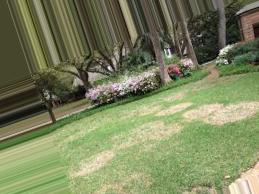patch: (183, 102, 251, 123), (135, 123, 175, 140), (103, 141, 138, 155), (82, 157, 106, 175), (121, 179, 154, 192), (151, 104, 171, 113)
